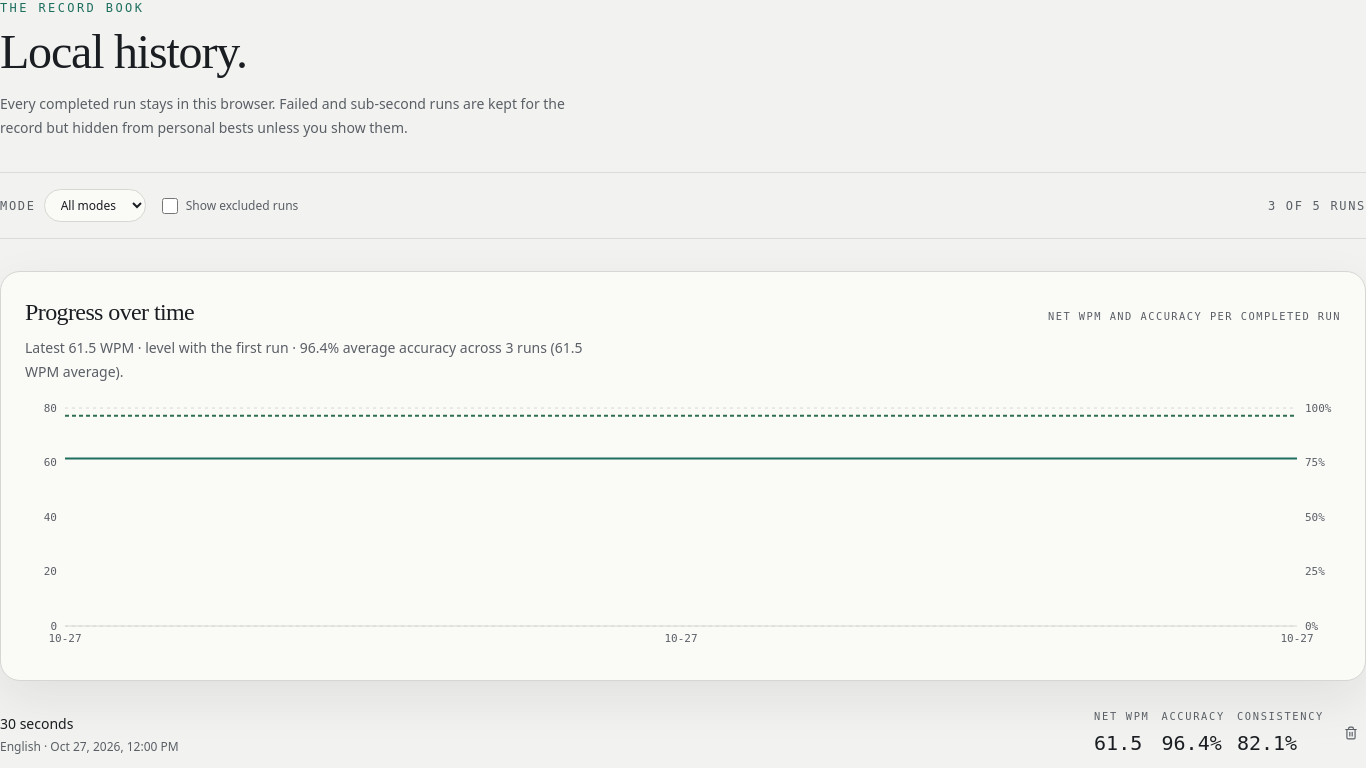
Test: history page › keeps paging consistent after deleting a loaded row
The image size is (1366, 768).
Expected: the text "3 of 5 runs" is shown, [1268,198,1365,214]
Click the button named "delete run" at (1351, 733), box [1336,718,1365,748]
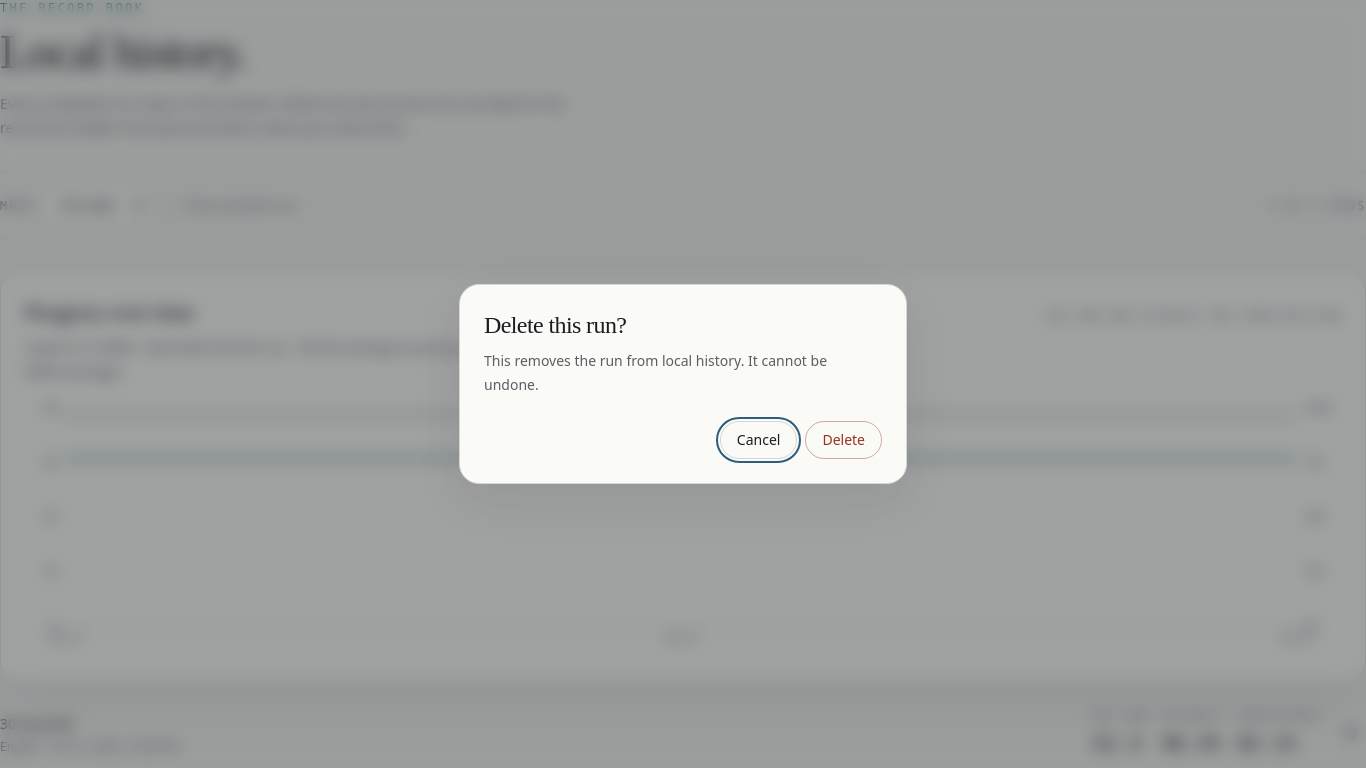
Click the button "Delete" at (844, 440), box [805,421,882,459]
(page scrolled)
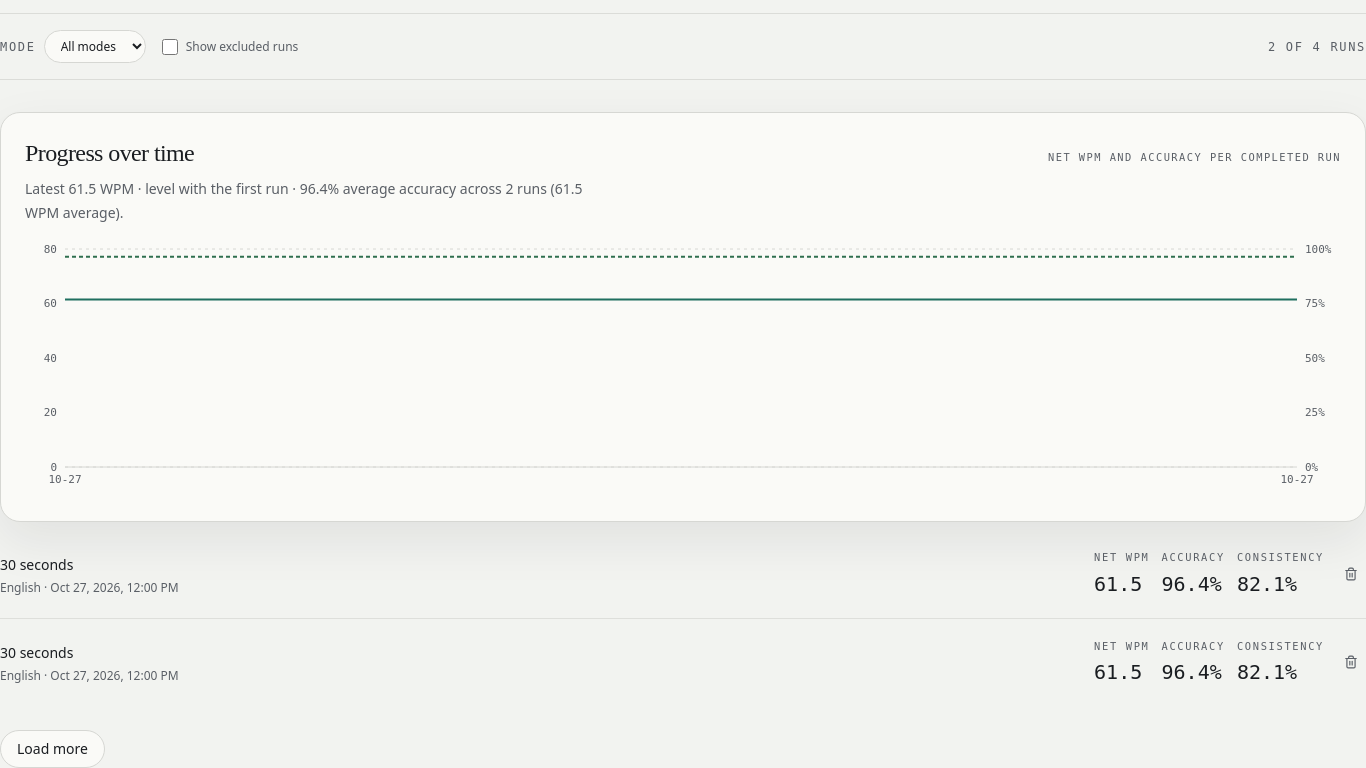
Expected: the button "Load more" is shown, [0,730,105,767]
Expected: the text "2 of 4 runs" is shown, [1268,38,1365,54]
